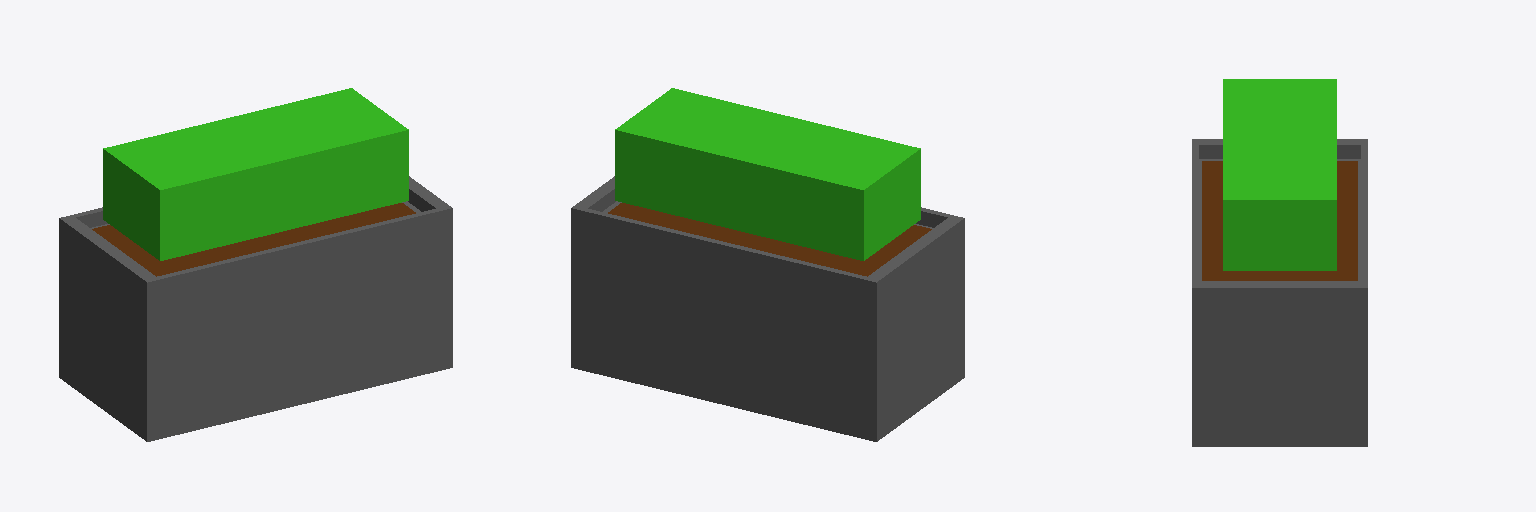
Rendered from simplePotHedge.obj.
3 renders of one model, left to right at view 1: azimuth 30°, elevation 25°; view 2: azimuth 150°, elevation 25°; view 3: azimuth 270°, elevation 25°, orthographic.
Parts seen in each view (by area): view 1: Cube_Cube.010; view 2: Cube_Cube.010; view 3: Cube_Cube.010.
Boxes of the visible parts, x1,y1,x2,y2 form: Cube_Cube.010: [59, 88, 452, 441]; Cube_Cube.010: [571, 88, 964, 441]; Cube_Cube.010: [1192, 79, 1367, 446].
Size of the model in its own units: 0.5 by 0.3656 by 0.25.